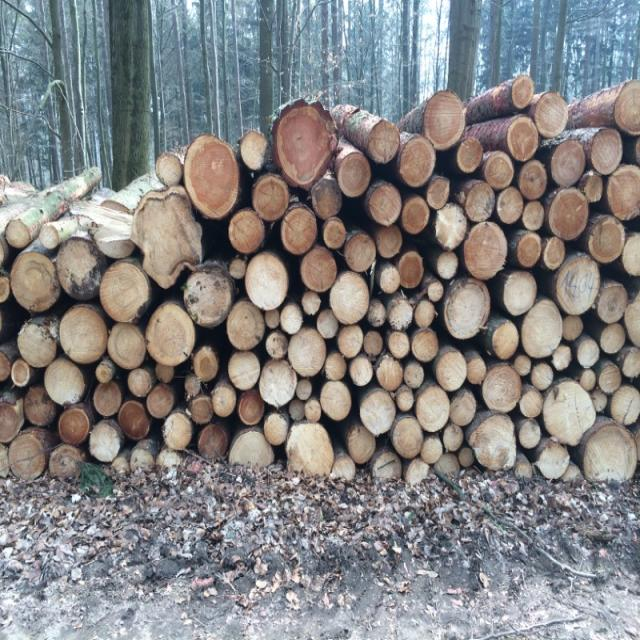wood-log: (134, 190, 202, 288), (277, 105, 337, 188), (182, 134, 240, 218), (543, 381, 597, 446), (98, 260, 150, 322), (148, 303, 198, 367), (580, 426, 634, 485), (10, 251, 60, 314), (185, 264, 234, 326), (59, 308, 109, 366), (445, 278, 492, 338), (554, 257, 601, 316), (57, 239, 103, 298), (469, 415, 516, 472), (463, 222, 508, 280), (423, 91, 466, 151), (246, 252, 290, 310), (288, 423, 335, 476), (521, 300, 563, 357), (548, 188, 589, 240), (330, 271, 370, 323), (9, 430, 48, 482), (286, 328, 327, 377), (229, 428, 275, 471), (227, 300, 266, 350), (45, 359, 86, 406), (482, 363, 521, 412), (259, 359, 298, 408), (400, 138, 438, 187), (18, 322, 59, 367), (280, 206, 318, 253), (361, 389, 398, 437), (109, 324, 146, 371), (608, 165, 640, 219), (301, 246, 338, 292), (588, 218, 625, 264), (532, 92, 568, 138), (254, 176, 290, 222), (434, 202, 468, 249), (338, 153, 373, 198), (550, 141, 584, 187), (416, 385, 450, 431), (504, 270, 538, 315), (368, 184, 404, 226), (230, 209, 265, 252), (590, 130, 623, 174), (435, 348, 468, 391), (368, 120, 401, 163), (118, 400, 152, 441), (391, 416, 424, 458), (24, 386, 57, 428), (507, 119, 539, 162), (343, 233, 378, 272), (89, 422, 122, 463), (466, 182, 498, 224), (229, 350, 263, 389), (615, 82, 640, 135), (321, 380, 353, 421), (310, 178, 342, 219), (596, 284, 628, 325), (59, 406, 92, 445), (538, 440, 570, 479), (346, 424, 377, 464), (164, 410, 194, 450), (199, 424, 229, 463), (611, 384, 640, 424), (491, 322, 520, 362), (484, 153, 516, 189), (238, 132, 267, 170), (520, 160, 548, 199), (498, 187, 526, 225), (403, 197, 431, 235), (455, 137, 484, 173), (237, 391, 266, 426), (93, 381, 122, 416), (376, 354, 404, 390), (0, 399, 23, 442), (156, 153, 184, 188), (193, 344, 219, 381), (146, 386, 174, 420), (450, 391, 477, 426), (338, 325, 365, 359), (400, 252, 424, 290), (210, 383, 236, 418), (599, 324, 627, 356), (411, 330, 439, 362), (376, 227, 403, 260), (265, 412, 292, 445), (386, 297, 413, 330), (435, 452, 461, 485), (624, 293, 640, 346), (516, 232, 540, 267), (6, 220, 34, 250), (314, 307, 340, 338), (425, 180, 450, 212), (349, 355, 373, 388), (519, 388, 545, 418), (129, 368, 155, 398), (189, 395, 214, 426), (542, 236, 566, 268), (323, 218, 346, 251), (574, 339, 600, 368), (623, 233, 640, 277), (522, 200, 545, 232), (513, 77, 535, 110), (326, 350, 350, 380), (518, 421, 542, 451), (279, 305, 303, 335), (414, 300, 437, 330), (598, 364, 621, 394), (436, 252, 459, 282), (386, 332, 409, 362), (332, 454, 357, 481), (530, 363, 554, 391), (378, 265, 400, 295), (10, 357, 31, 388), (420, 437, 443, 465), (582, 173, 603, 203), (442, 423, 463, 452), (267, 331, 288, 360), (405, 363, 426, 390), (552, 342, 572, 370), (468, 356, 488, 384), (622, 347, 640, 378), (363, 331, 383, 358), (562, 314, 582, 340), (301, 292, 322, 316), (394, 386, 414, 411), (185, 375, 203, 400), (578, 367, 598, 389), (96, 362, 116, 384), (426, 279, 444, 303), (514, 353, 533, 375), (157, 362, 176, 383), (0, 350, 12, 383), (230, 258, 248, 280), (0, 273, 10, 304), (0, 443, 8, 478), (0, 238, 8, 271)
